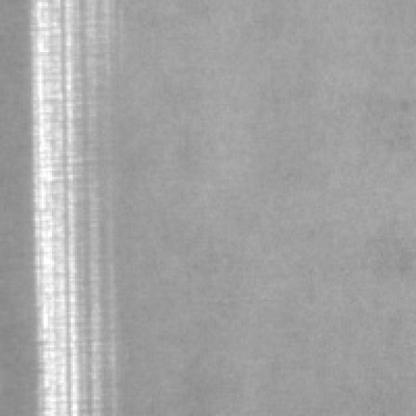scratches: (36, 0, 119, 410)
